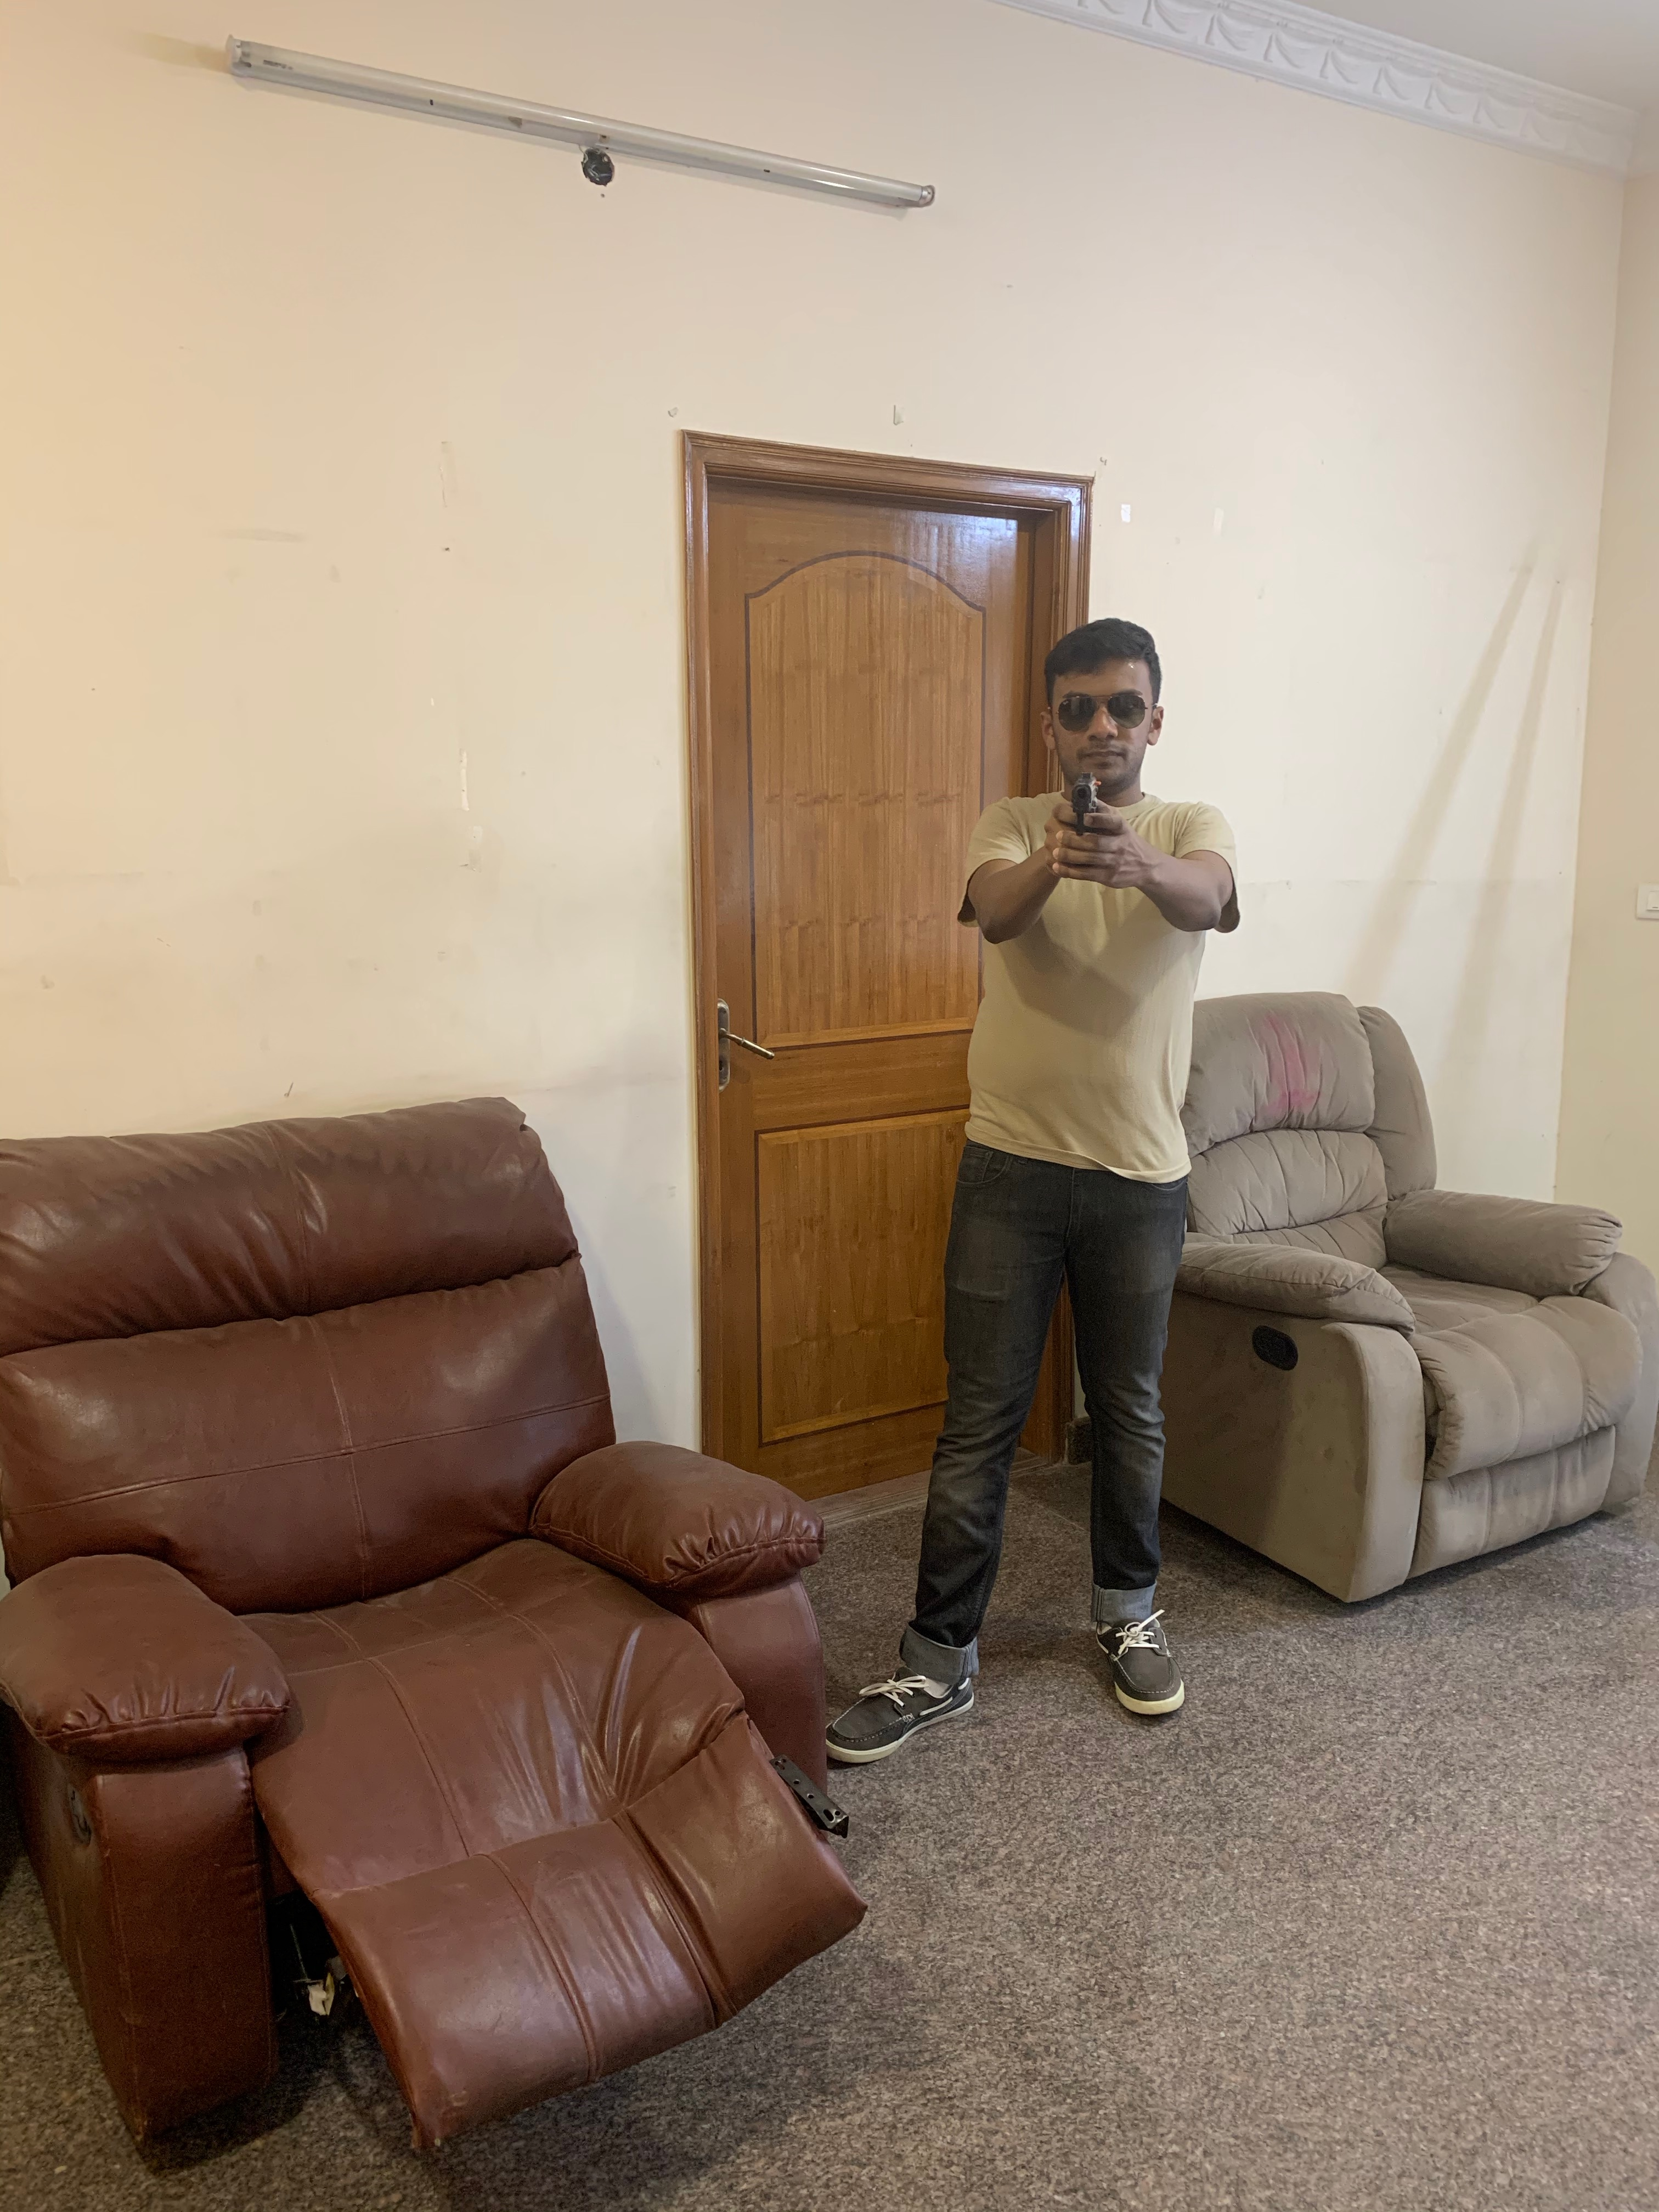gun: (1049, 749, 1107, 862)
